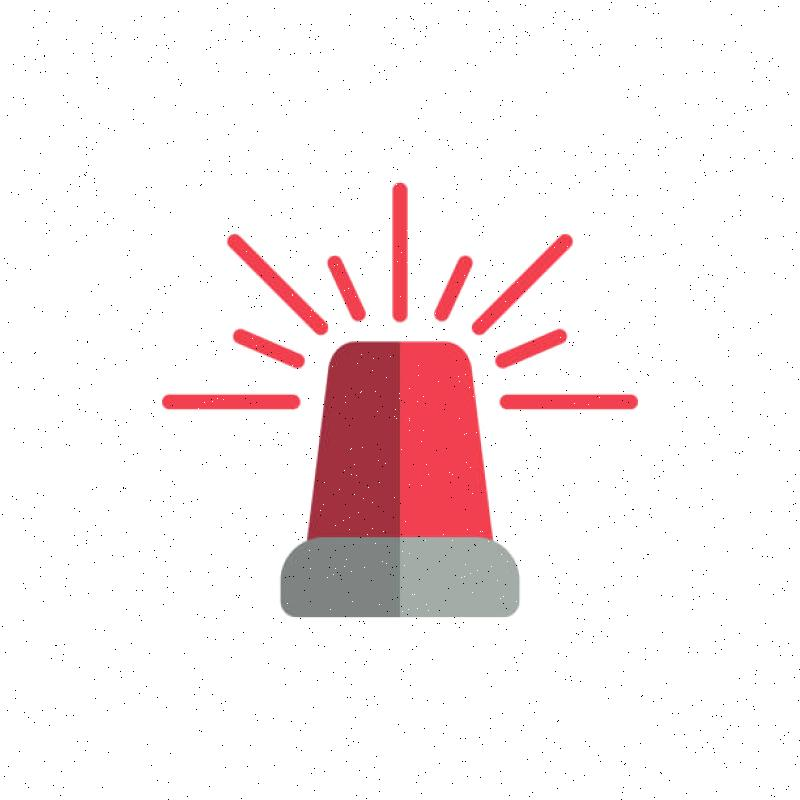AmbulanceSiren: (226, 297, 618, 669)
